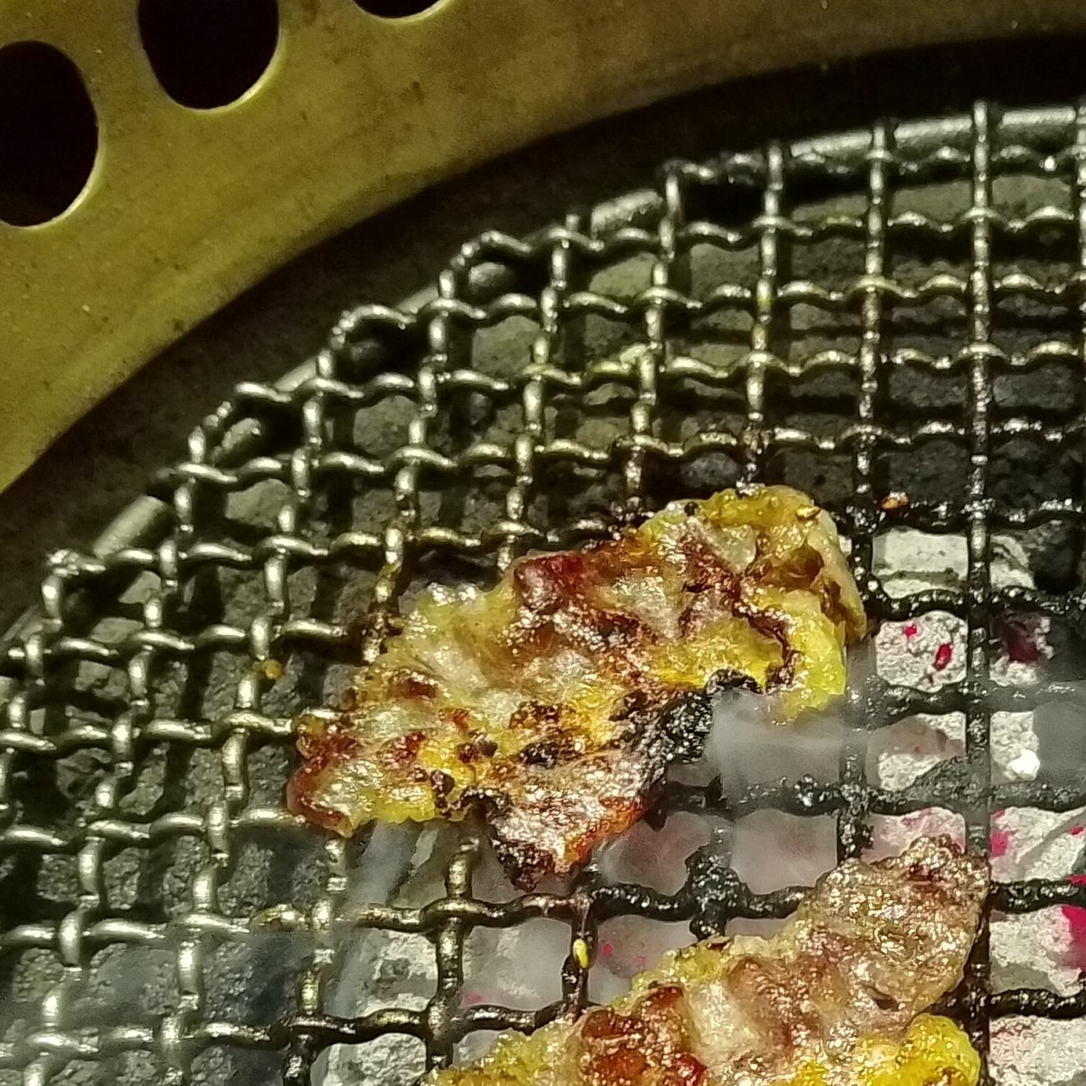Overcooked: (282, 485, 875, 898), (438, 820, 990, 1085)
